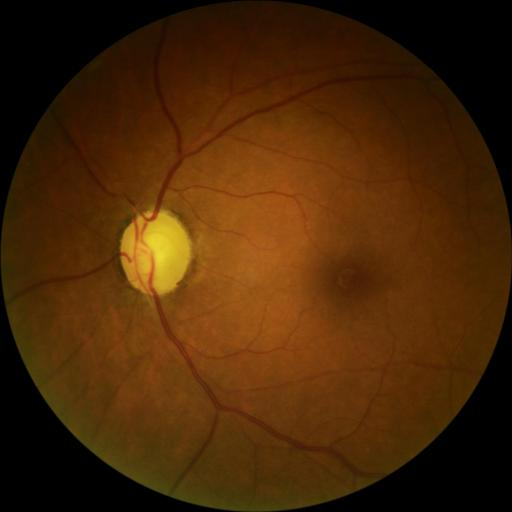Optic Cup: (137, 232, 173, 271)
Optic Disc: (121, 211, 193, 296)
